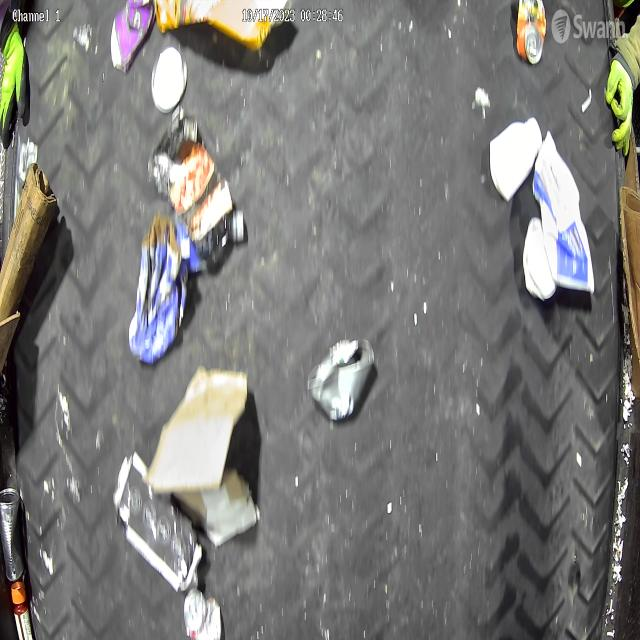can: (308, 337, 374, 420), (150, 45, 189, 116), (0, 488, 26, 581), (182, 586, 223, 640), (516, 0, 546, 64)
non_white_jug: (129, 212, 207, 364)
